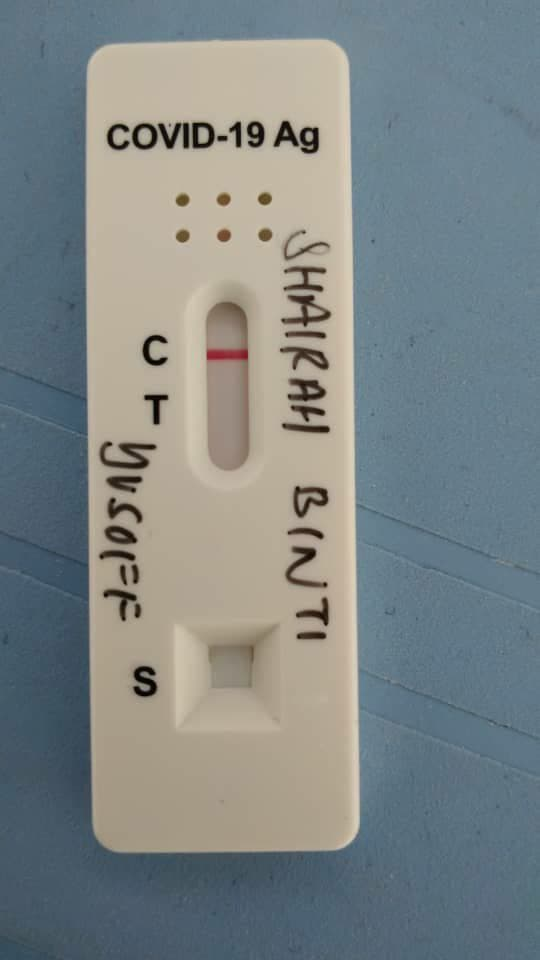rapid_test: (92, 43, 356, 859)
